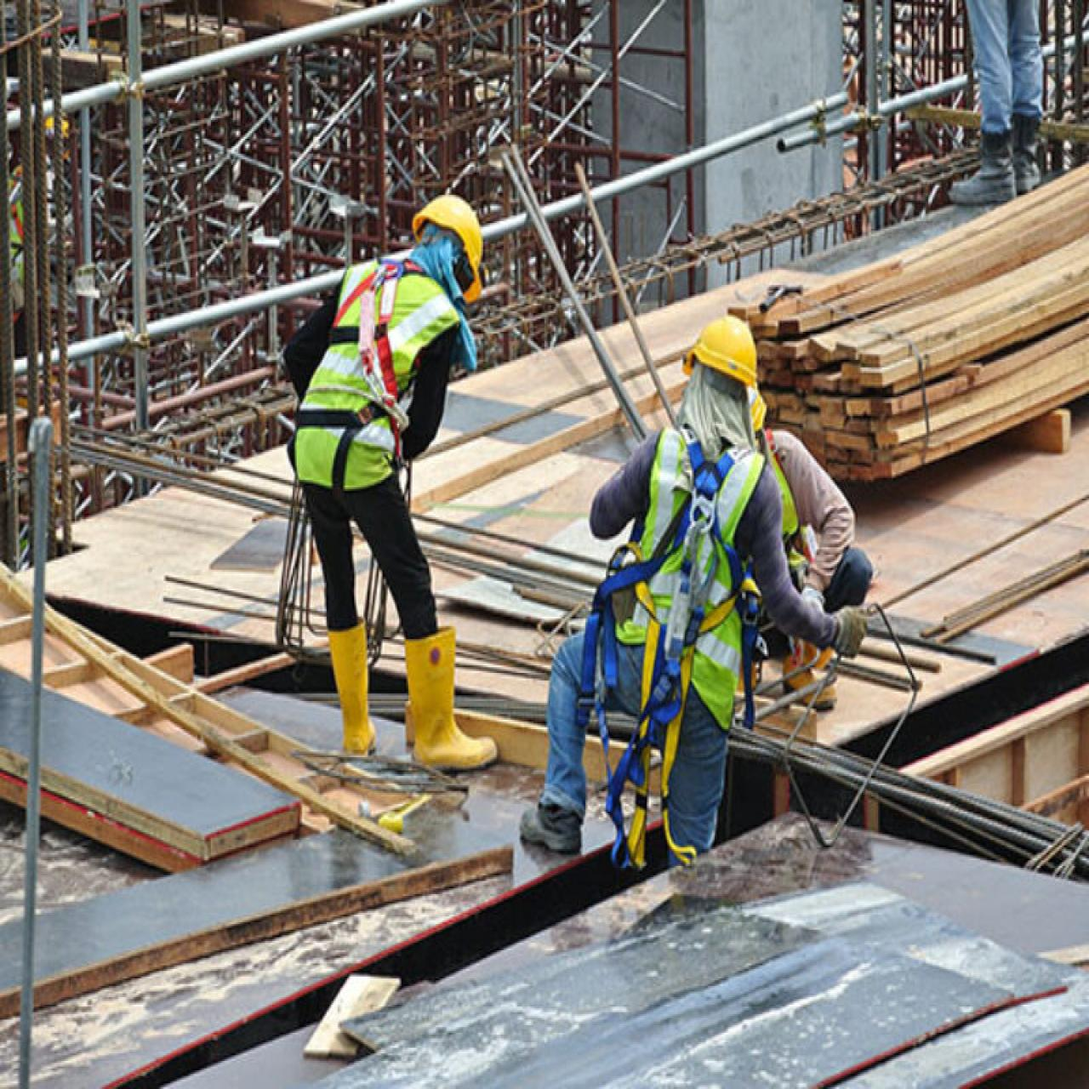Person: (519, 298, 866, 887), (284, 157, 526, 808)
Safety_Vest: (616, 418, 783, 743), (290, 254, 454, 472)
